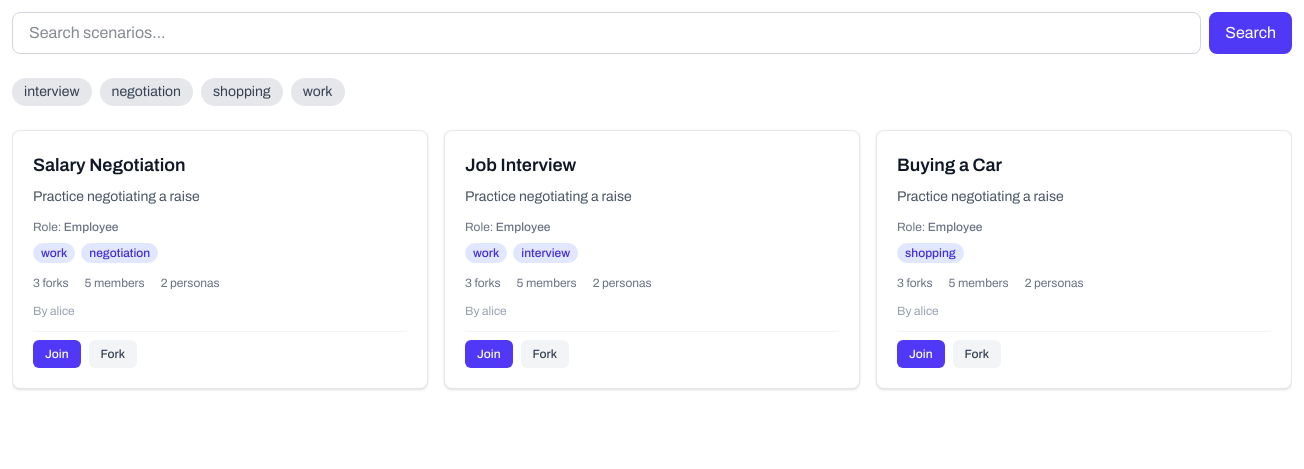
Scenario: ExploreClient › search failure (response not ok) shows the explore-error
Step 1. Type "boom" into the field with test id "search-input" → x=607, y=33, box [12,12,1201,54]
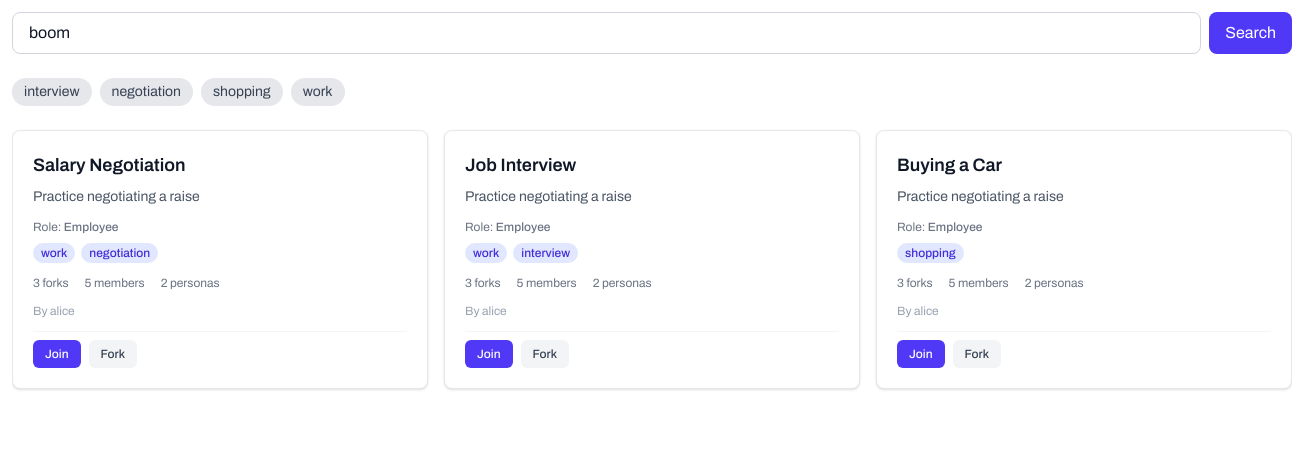
Step 2. Click the button with test id "search-button" → x=1251, y=33, box [1209,12,1292,54]
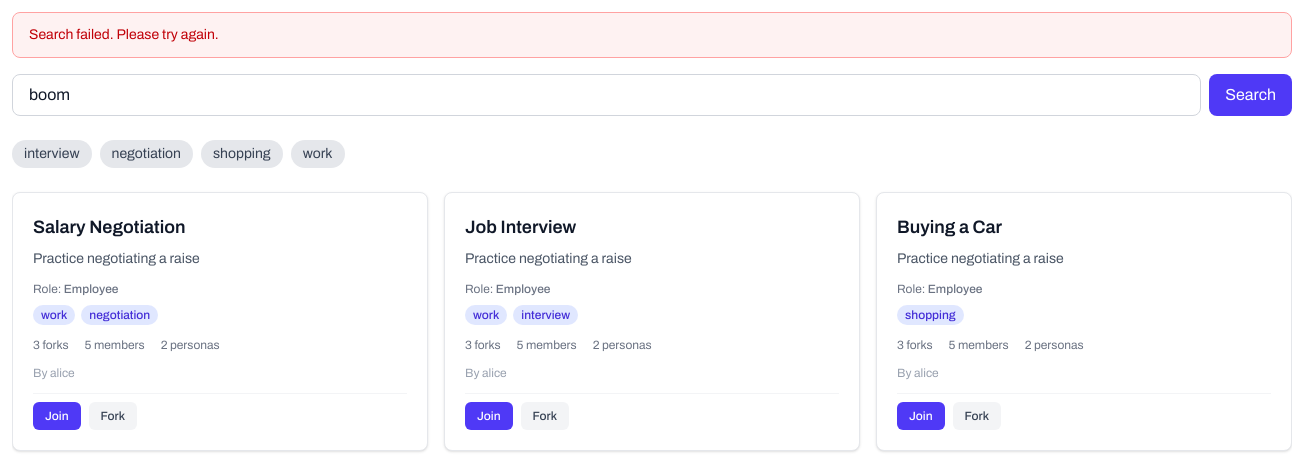
Expected: the message "Search failed. Please try again." is shown, [12,12,1292,58]
Expected: the message with test id "explore-error" shows "Search failed", [29,27,219,42]
